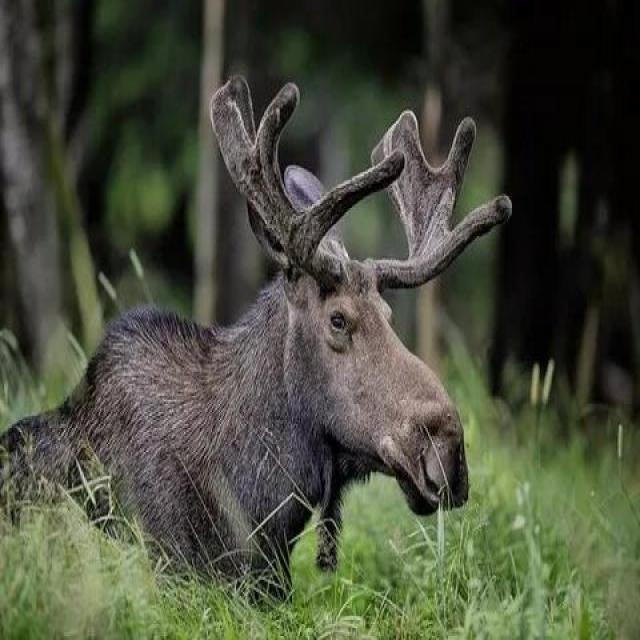deer: (149, 52, 436, 544)
